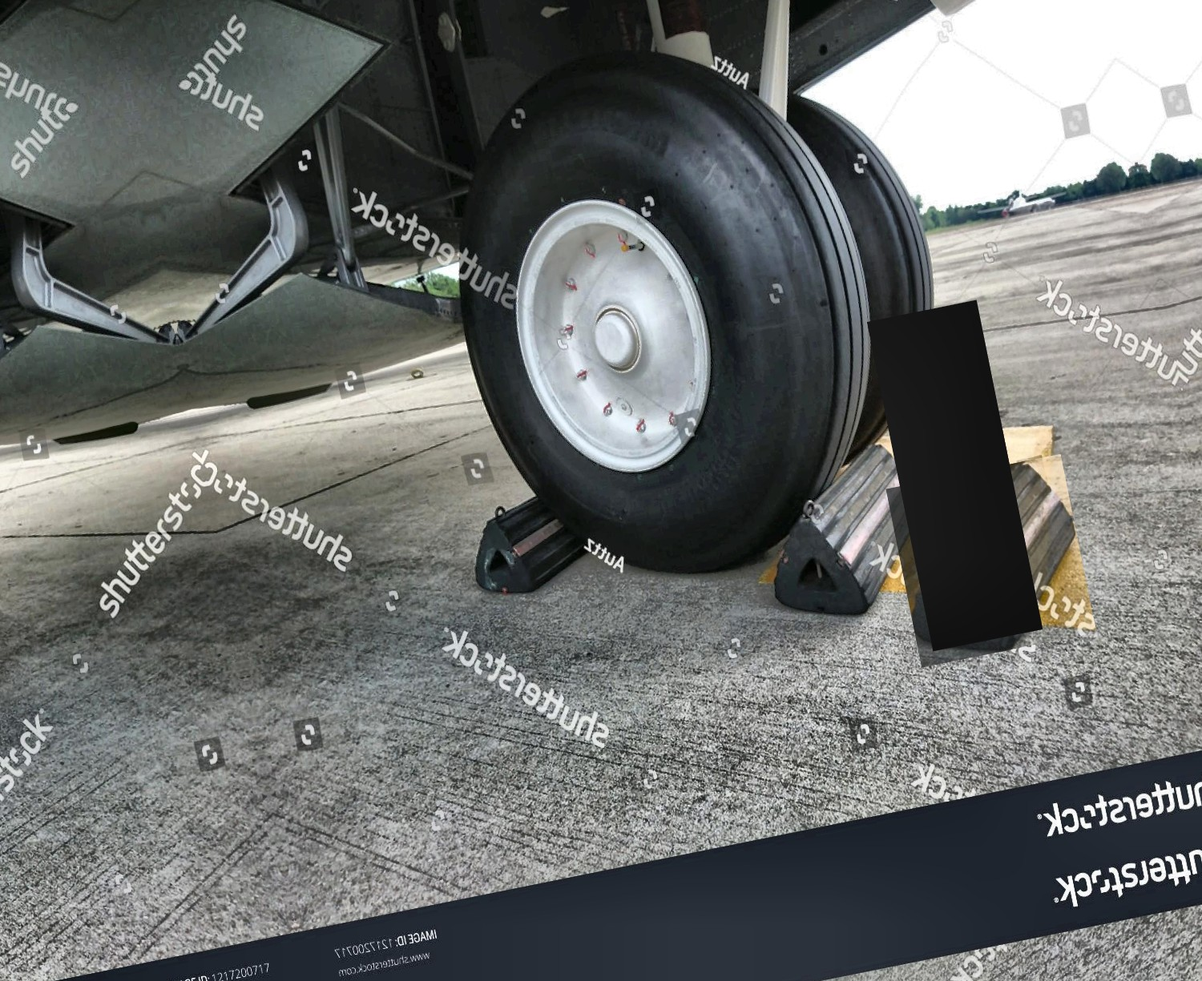chock: (886, 454, 1096, 668), (750, 435, 943, 630), (458, 474, 602, 606)
wheel: (436, 19, 898, 607), (765, 71, 969, 459)
